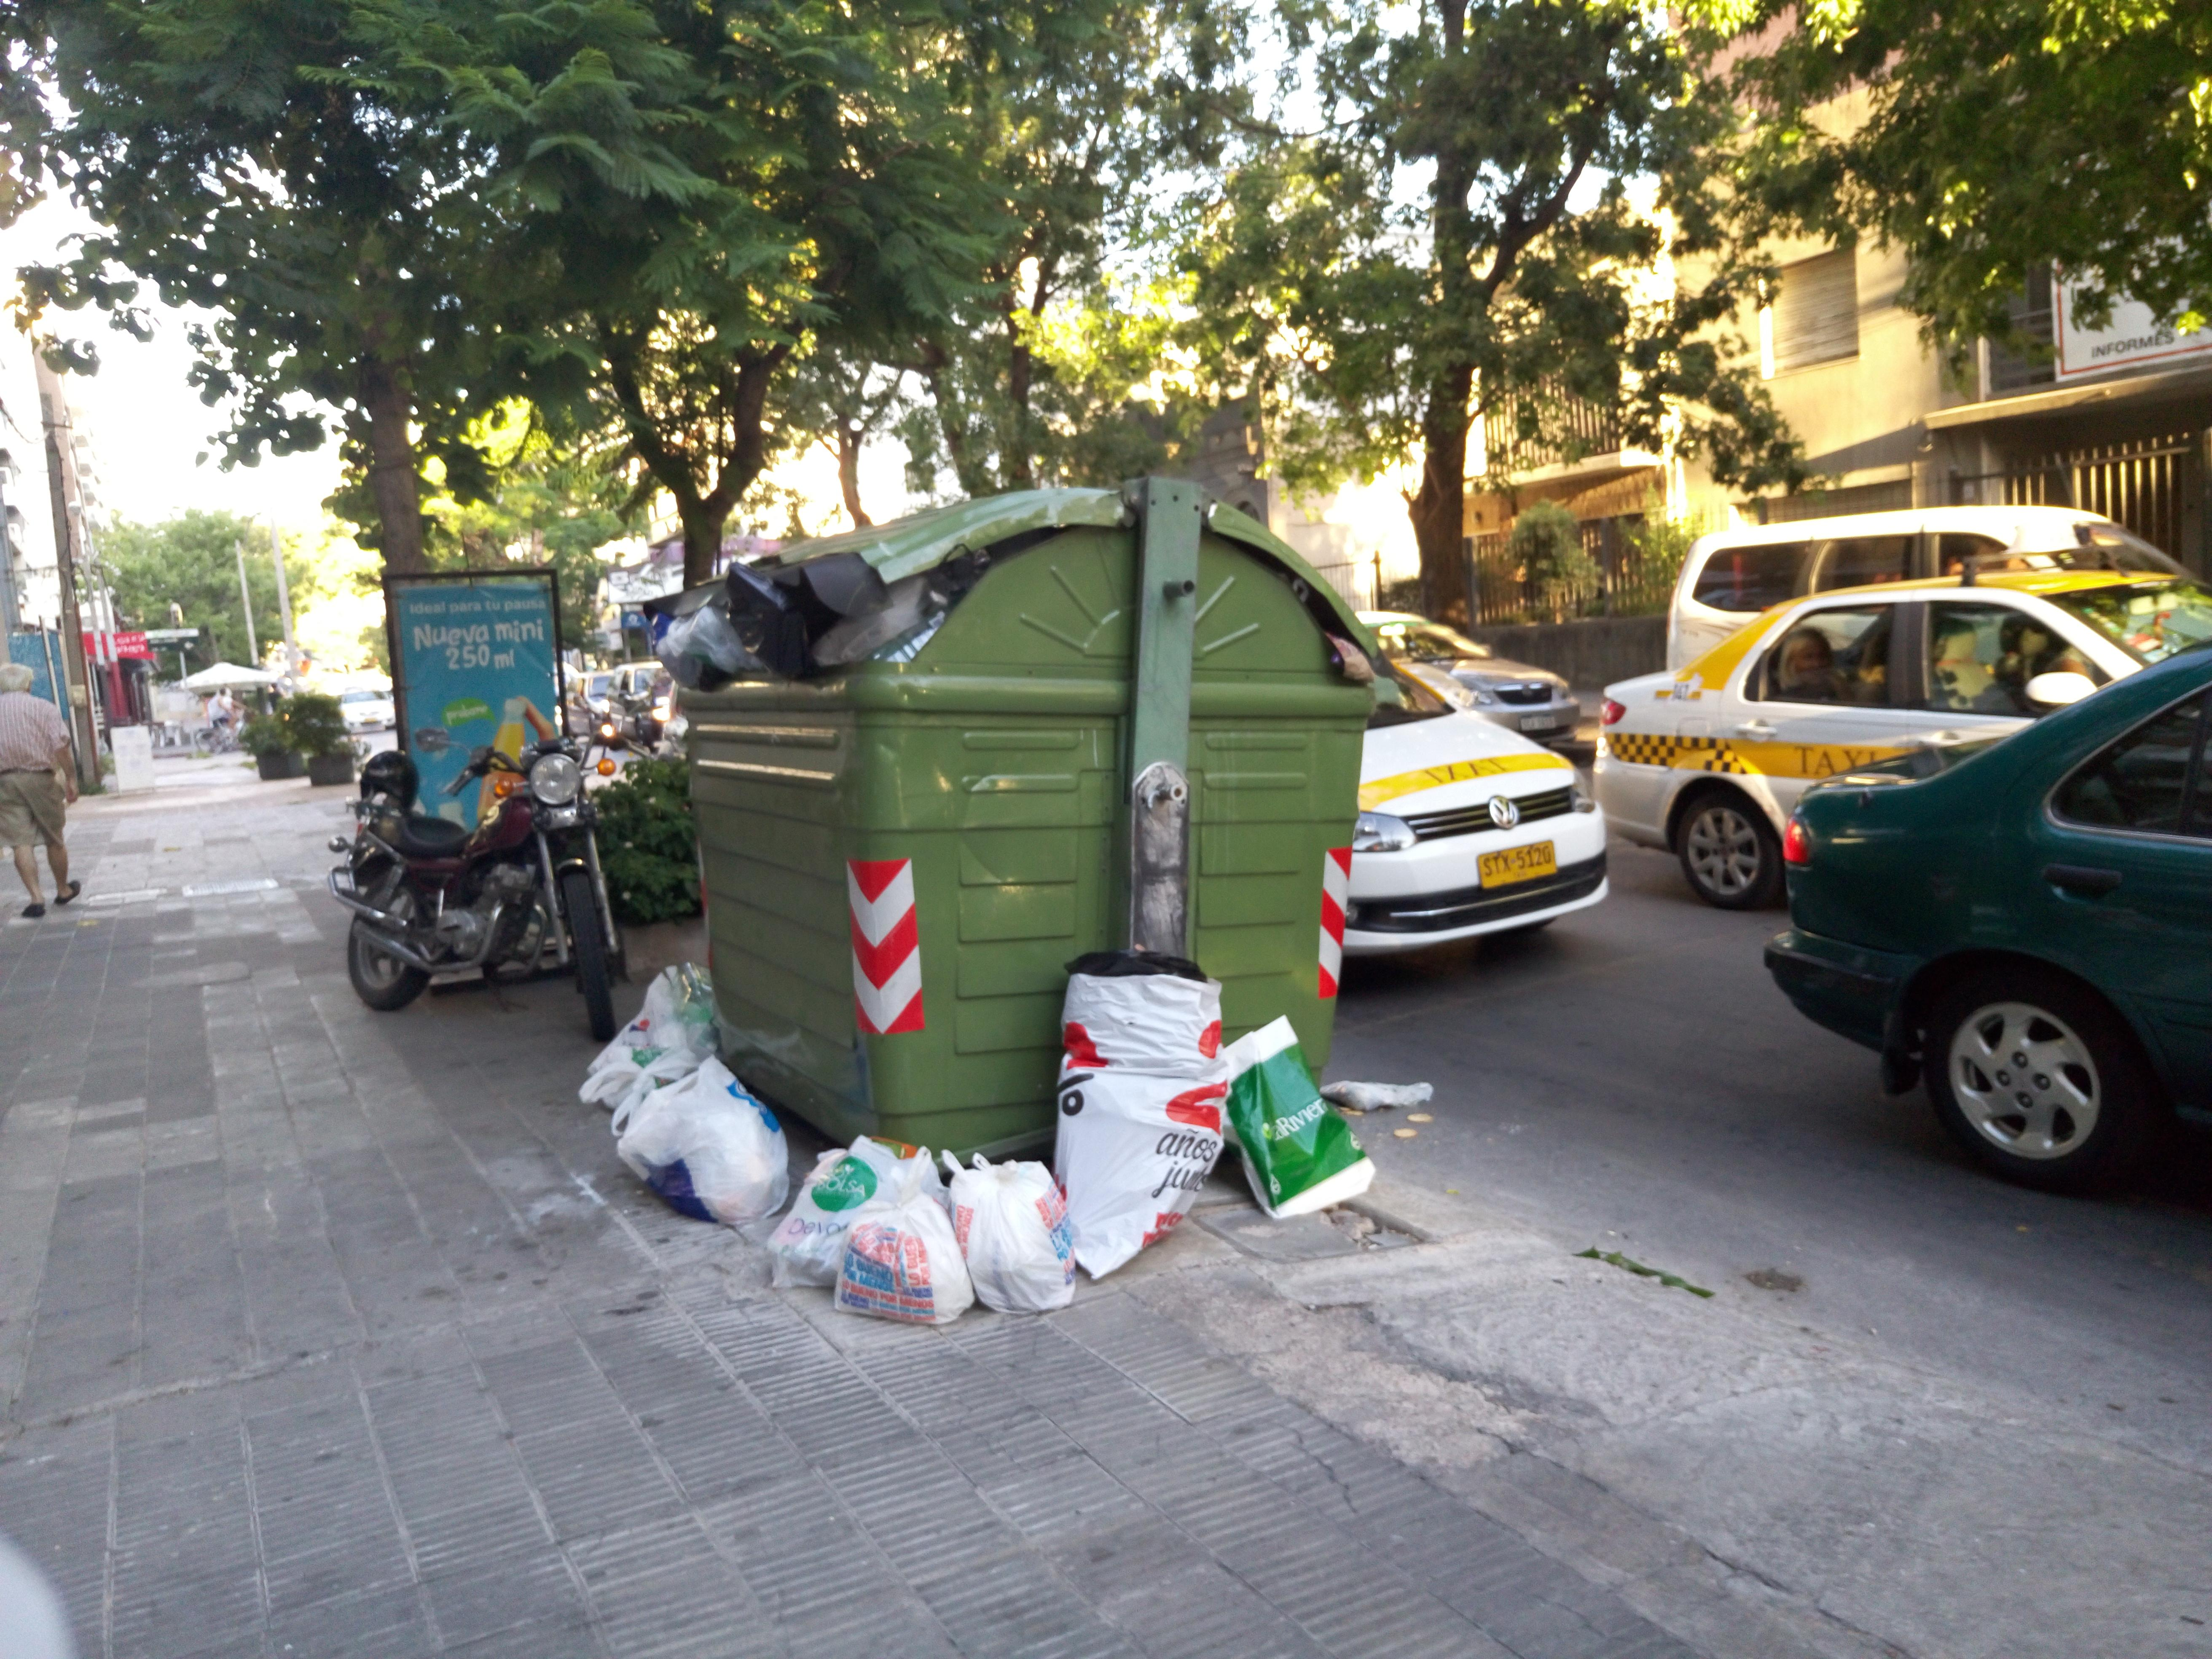Dechets: (611, 1147, 1404, 1316), (1061, 957, 1369, 1277), (550, 945, 721, 1230), (624, 565, 921, 687)
Trash: (676, 469, 1395, 1173)
